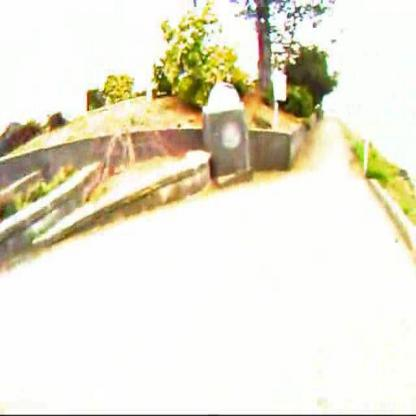other: (142, 83, 203, 201)
